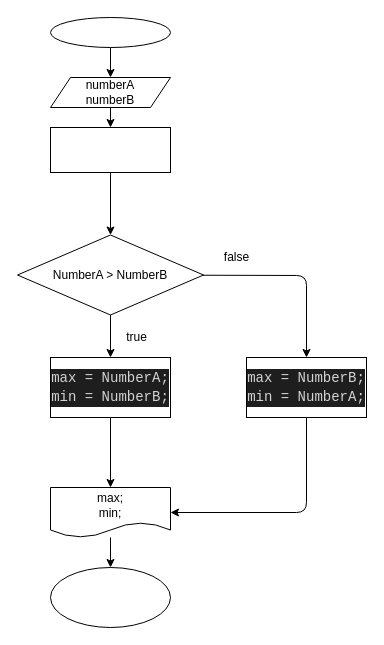
The diagram is 384 pixels wide and 645 high, and some of its shapes have lost their labels. Each missing label, with the box of its shape:
End: (50, 566, 170, 628)
max = 0 min = 0: (50, 126, 170, 172)
start: (50, 16, 170, 48)
